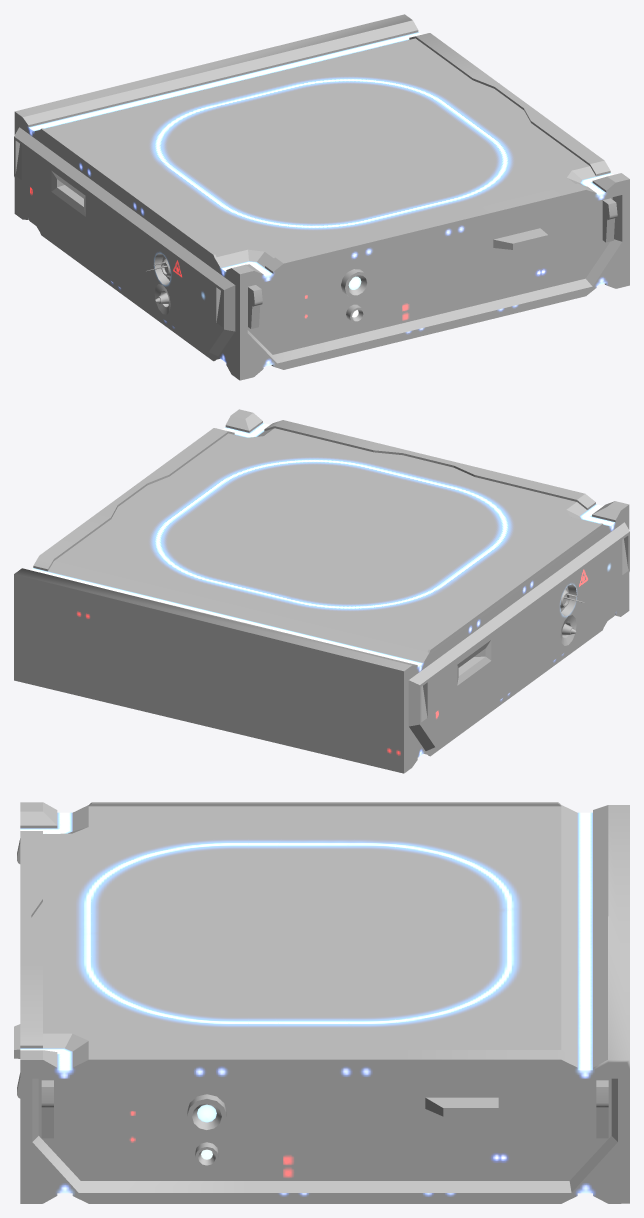
The model's file is 3Way-2S_Caps.fbx.
The picture shows the model from 3 angles, top to bottom: view 1: azimuth 30°, elevation 25°; view 2: azimuth 150°, elevation 25°; view 3: azimuth 270°, elevation 25°; orthographic projection. The views are drawn at different scales.
Parts seen in each view (by area): view 1: 3Way-2S_Caps; view 2: 3Way-2S_Caps; view 3: 3Way-2S_Caps.
Boxes of the visible parts, <box> form: 3Way-2S_Caps: <box>14,14,629,380</box>; 3Way-2S_Caps: <box>14,409,629,773</box>; 3Way-2S_Caps: <box>14,802,629,1203</box>.
Size of the model in its own units: 2.69 by 0.6519 by 2.53.
